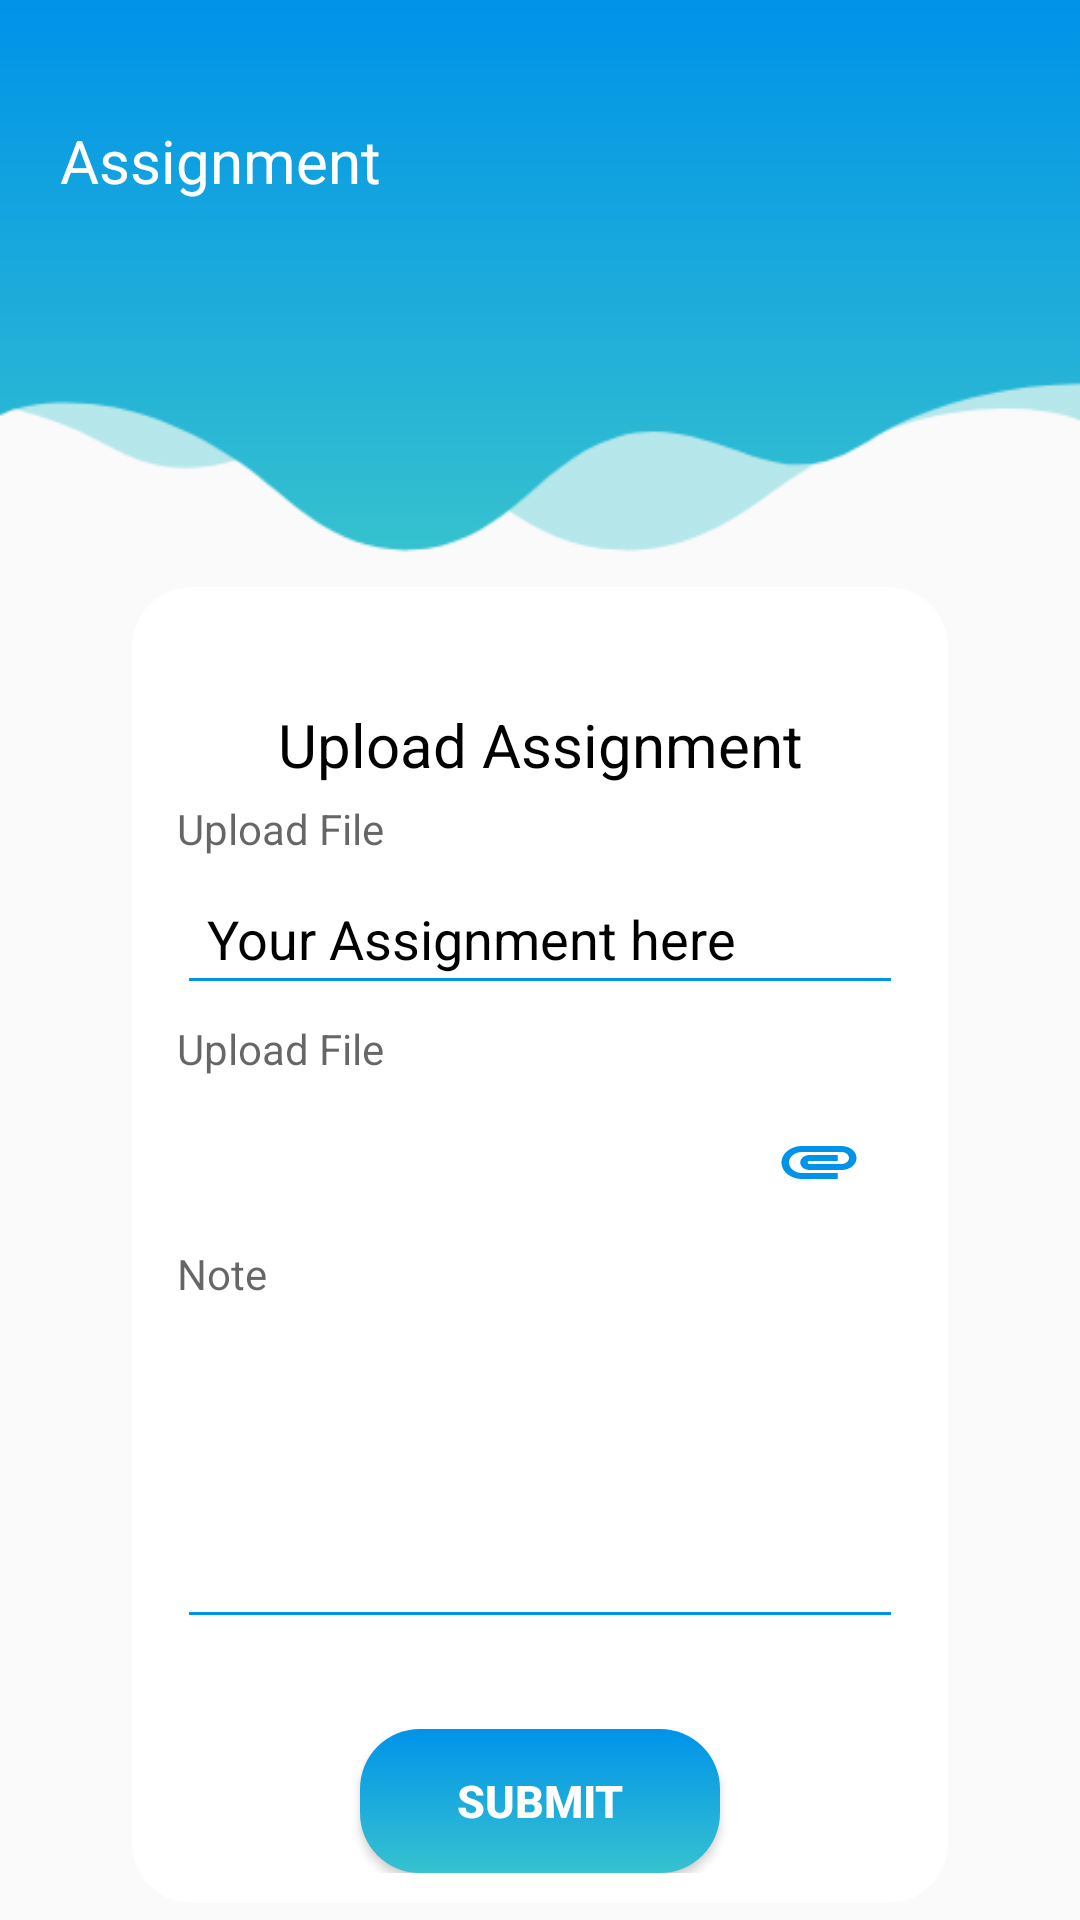

Icon bounding boxes for this 1080×1920 phone screenshot, format (x1, y1, x2, y2):
attachment: (781, 1146, 857, 1179)
